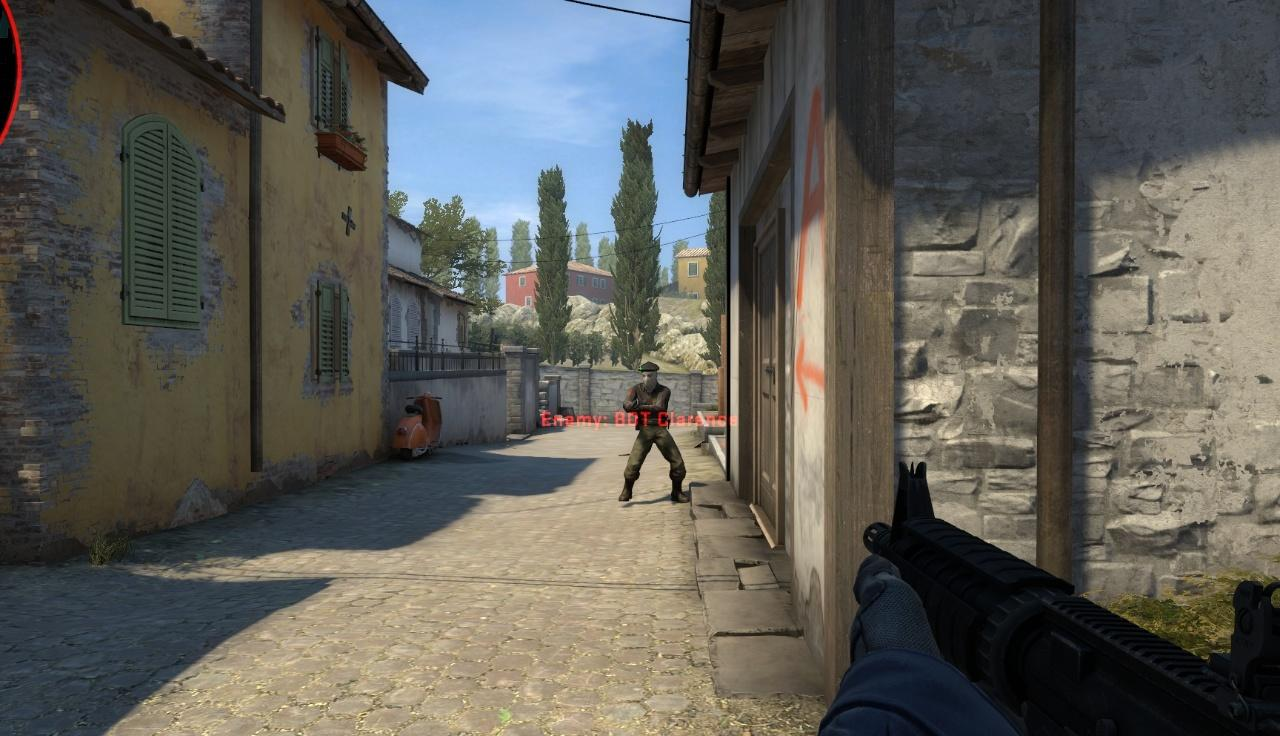rifle: (863, 463, 1280, 736)
tt: (625, 362, 676, 501)
tthead: (638, 362, 659, 390)
